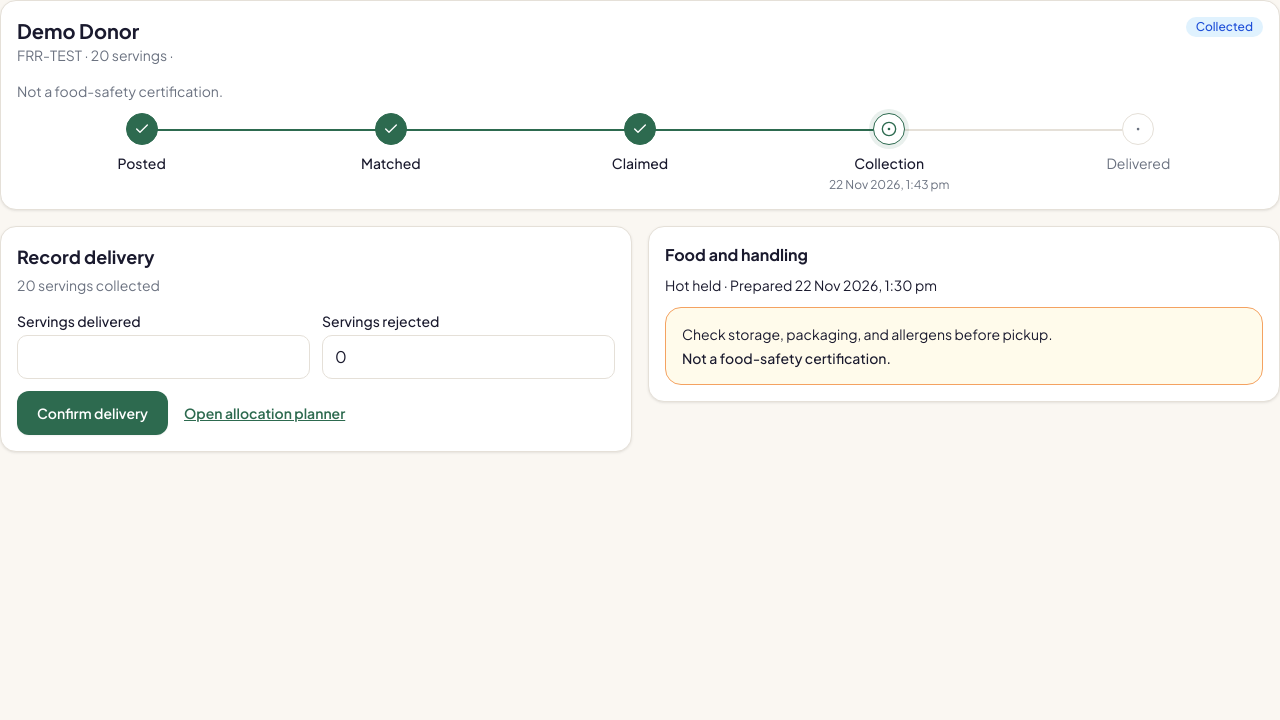
Pickup delivery › shows a toast when confirmation fails and leaves the pickup collected
Type "20" into the number field labelled "Servings delivered" at [164, 357], box [17,335,310,379]
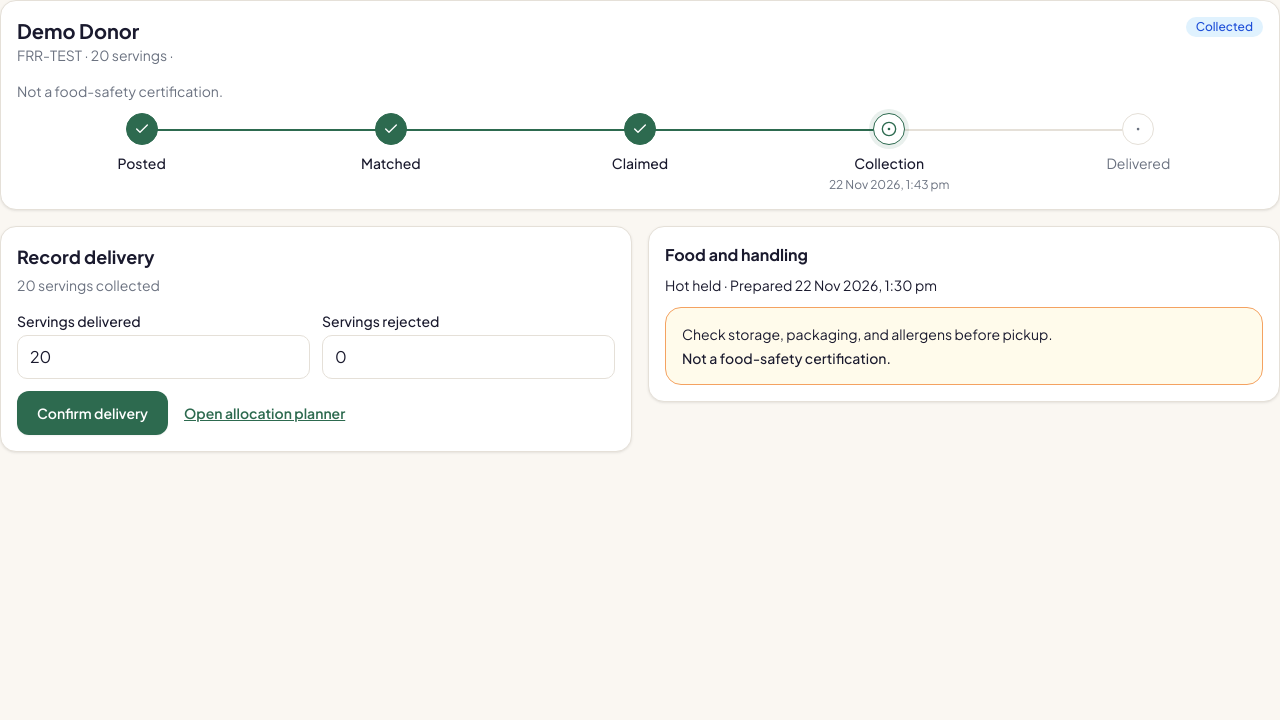
Click the button "Confirm delivery" at [92, 413], box [17,391,168,435]
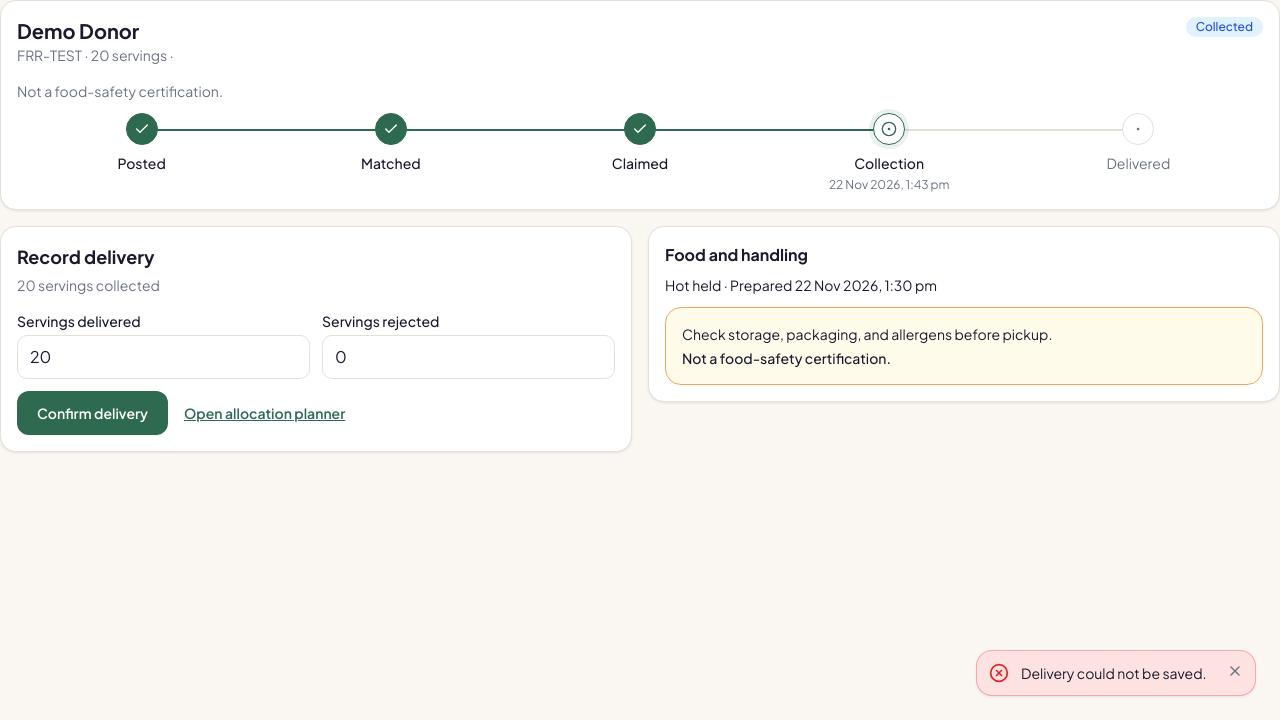
Expected: the text "Delivery could not be saved." is shown, [1021,663,1215,683]
